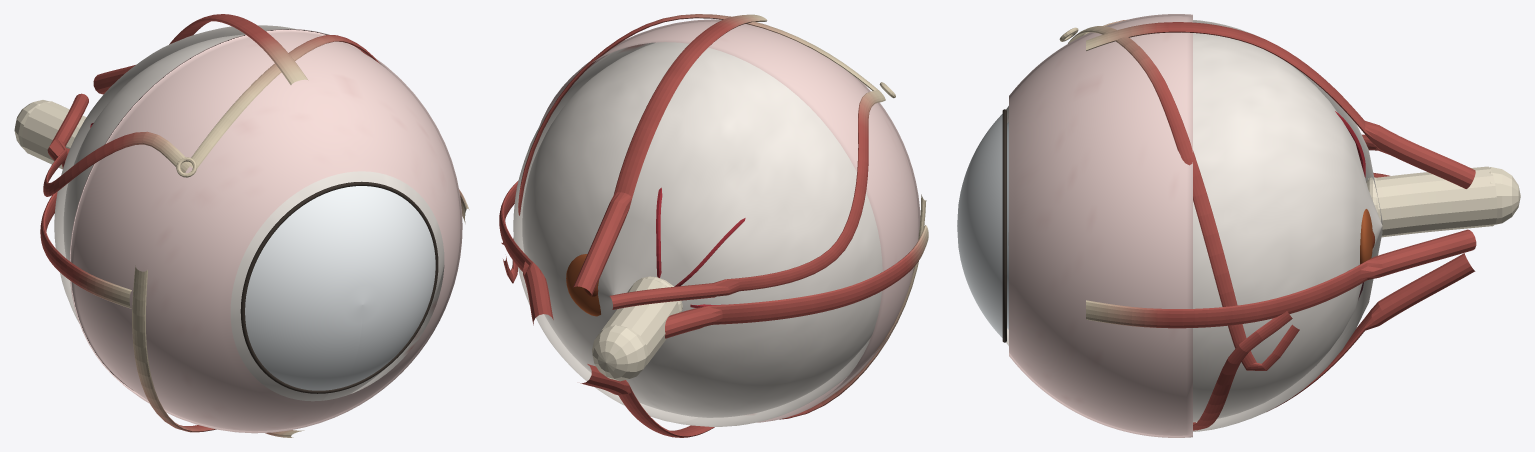
Rendered from eye.glb.
3 views of the same model, side by side, from view 1: azimuth 30°, elevation 25°; view 2: azimuth 150°, elevation 25°; view 3: azimuth 270°, elevation 25° (orthographic). The views are drawn at different scales.
Parts seen in each view (by area): view 1: conjunctiva, cornea, sclera, extraocular_muscles, limbus, optic_nerve; view 2: sclera, extraocular_muscles, conjunctiva, optic_nerve, macula, retinal_vessels; view 3: conjunctiva, sclera, extraocular_muscles, optic_nerve, cornea, limbus, macula.
Part boxes in pixels (x1,y1,x2,y2): conjunctiva: [69, 29, 462, 433]; cornea: [245, 186, 435, 390]; sclera: [54, 25, 444, 401]; extraocular_muscles: [40, 14, 469, 437]; limbus: [240, 181, 438, 393]; optic_nerve: [14, 100, 86, 169]; sclera: [513, 42, 882, 426]; extraocular_muscles: [499, 14, 928, 437]; conjunctiva: [539, 19, 920, 422]; optic_nerve: [592, 276, 682, 381]; macula: [566, 254, 600, 316]; retinal_vessels: [656, 187, 745, 307]; conjunctiva: [1009, 14, 1192, 437]; sclera: [1006, 20, 1382, 431]; extraocular_muscles: [1059, 20, 1476, 430]; optic_nerve: [1366, 166, 1520, 237]; cornea: [957, 114, 1002, 337]; limbus: [1002, 109, 1006, 342]; macula: [1360, 209, 1372, 264].
Size of the model in its own units: 2.15 by 2.15 by 2.73.
